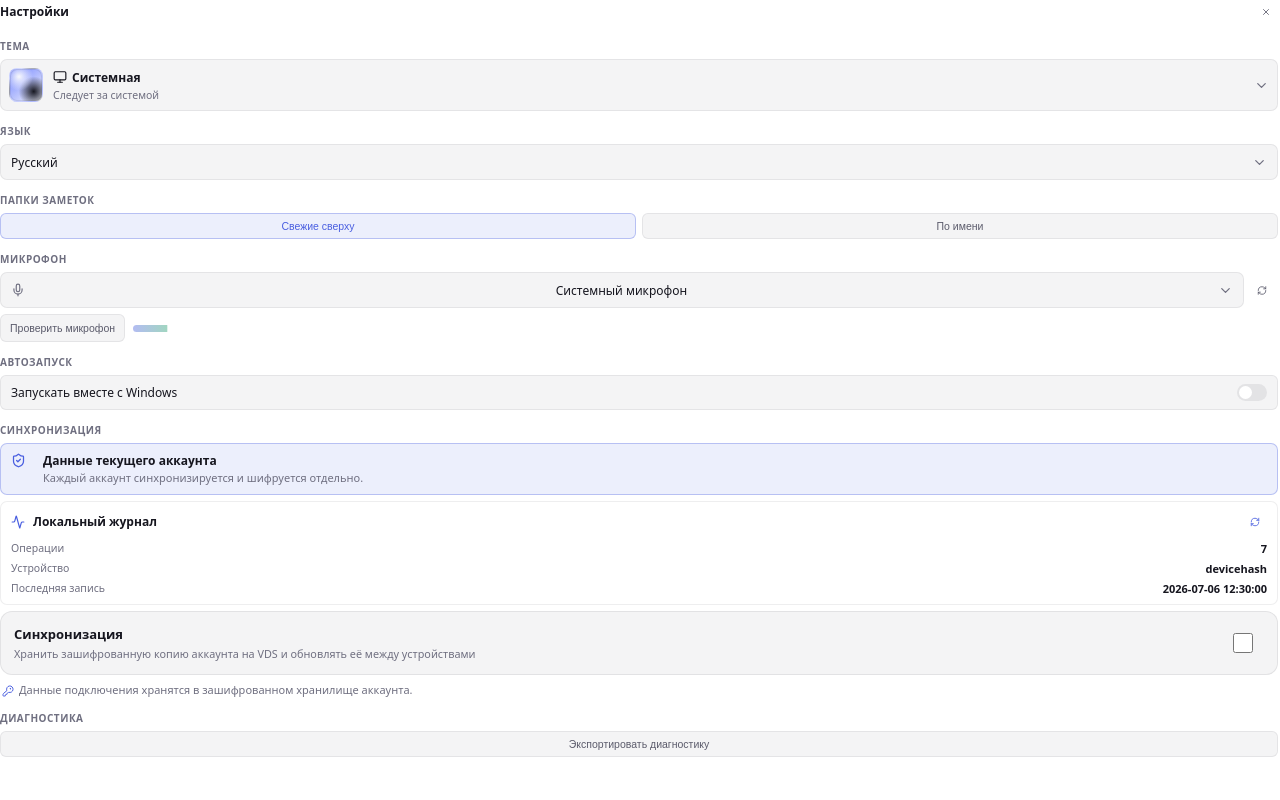
Test case: SettingsPanel › enables sync for the active local account
The image size is (1280, 800).
Click the switch at x=1243, y=643, box [1225,633,1261,653]
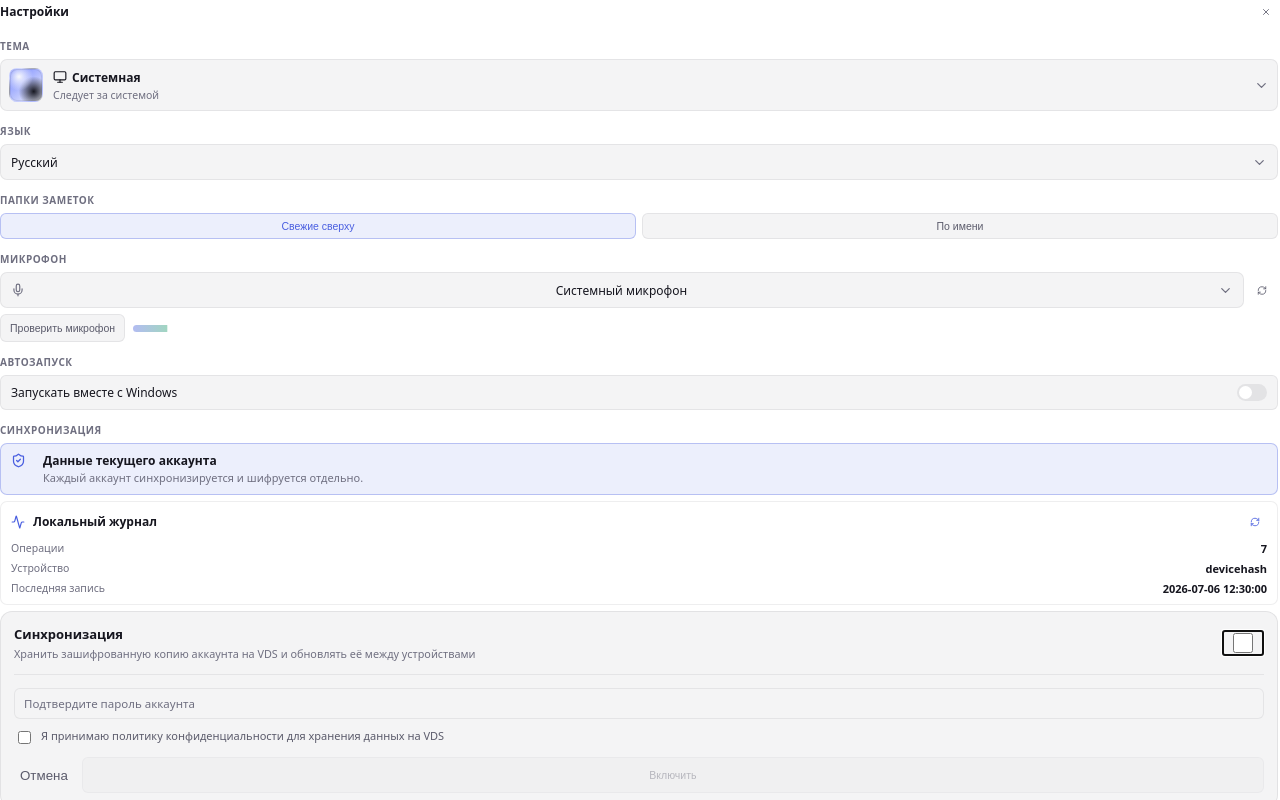
Type "StrongPass123" into the password field with placeholder "Подтвердите пароль аккаунта" at x=639, y=704, box [14,688,1264,720]
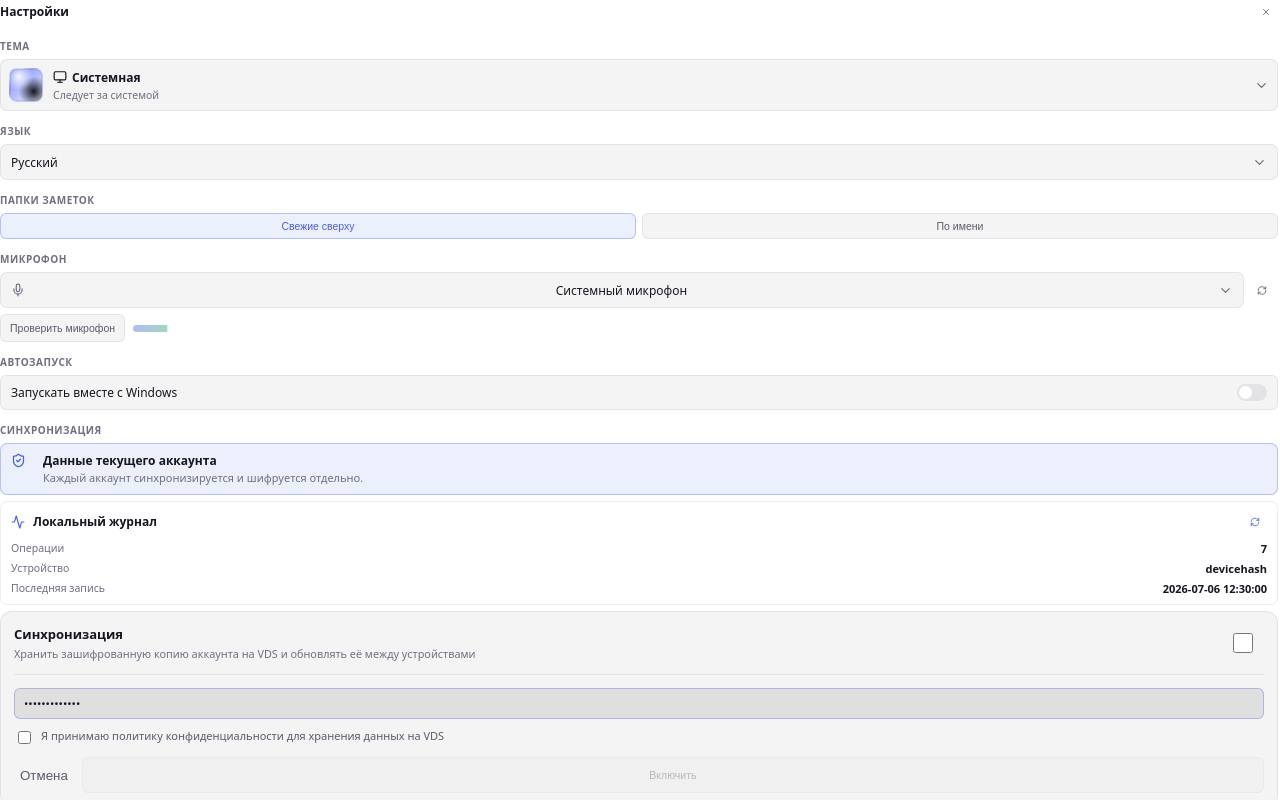
Click the checkbox at x=24, y=738, box [18,732,31,744]
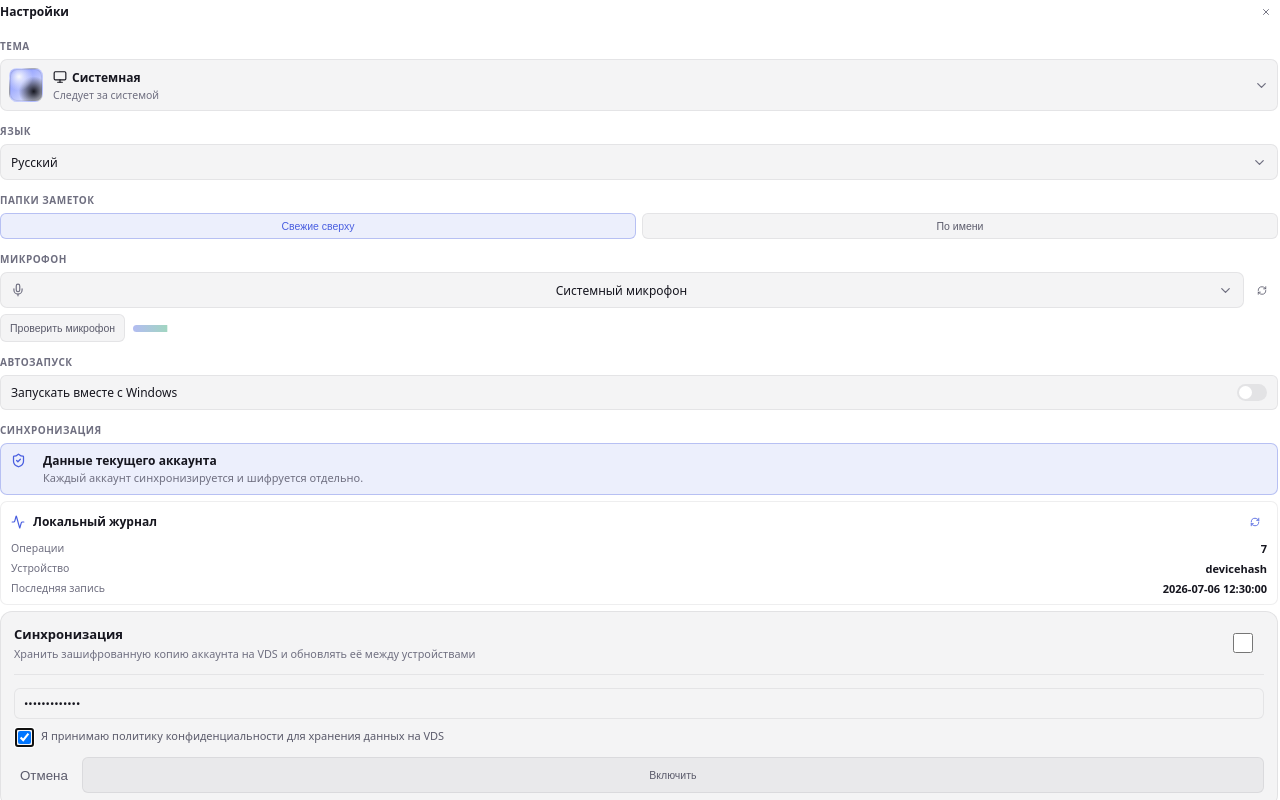
Click the button "Включить" at x=673, y=776, box [82,758,1264,794]
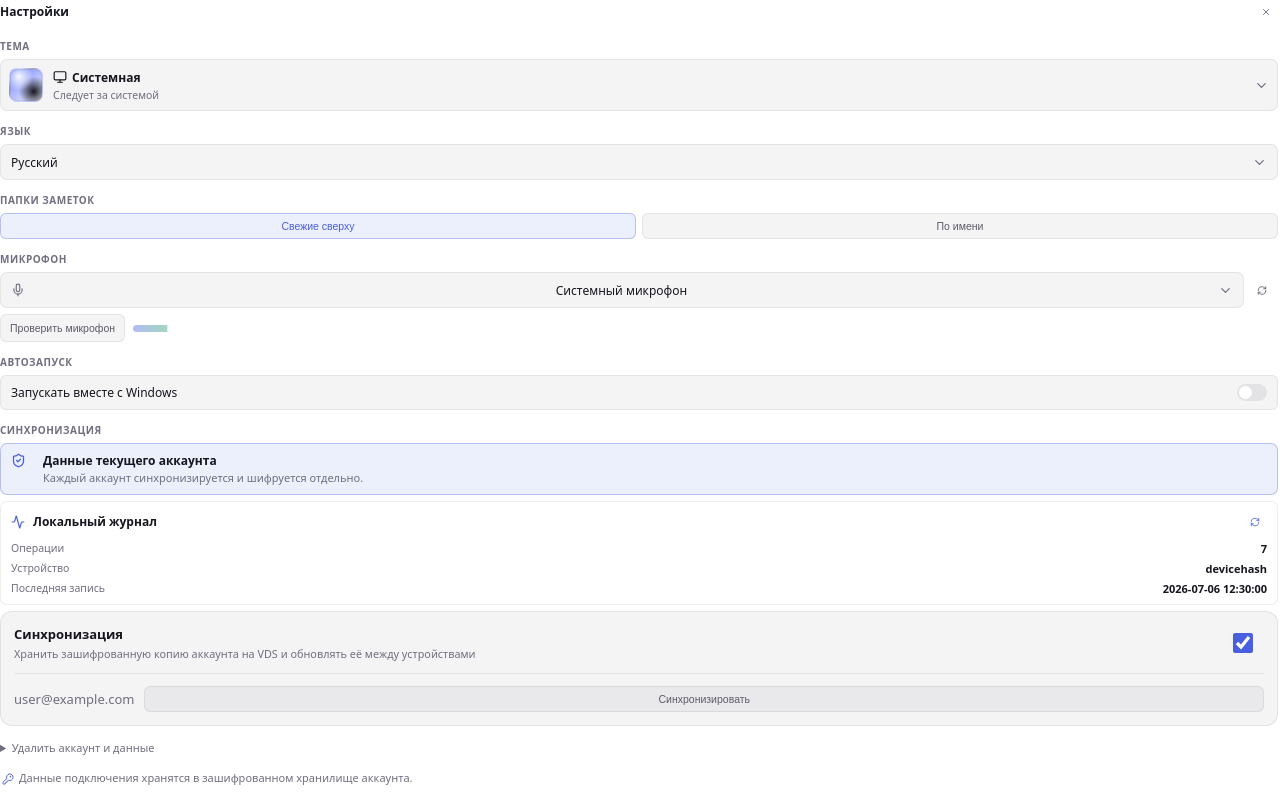
Expected: the text "user@example.com" is shown, [14,690,134,708]
